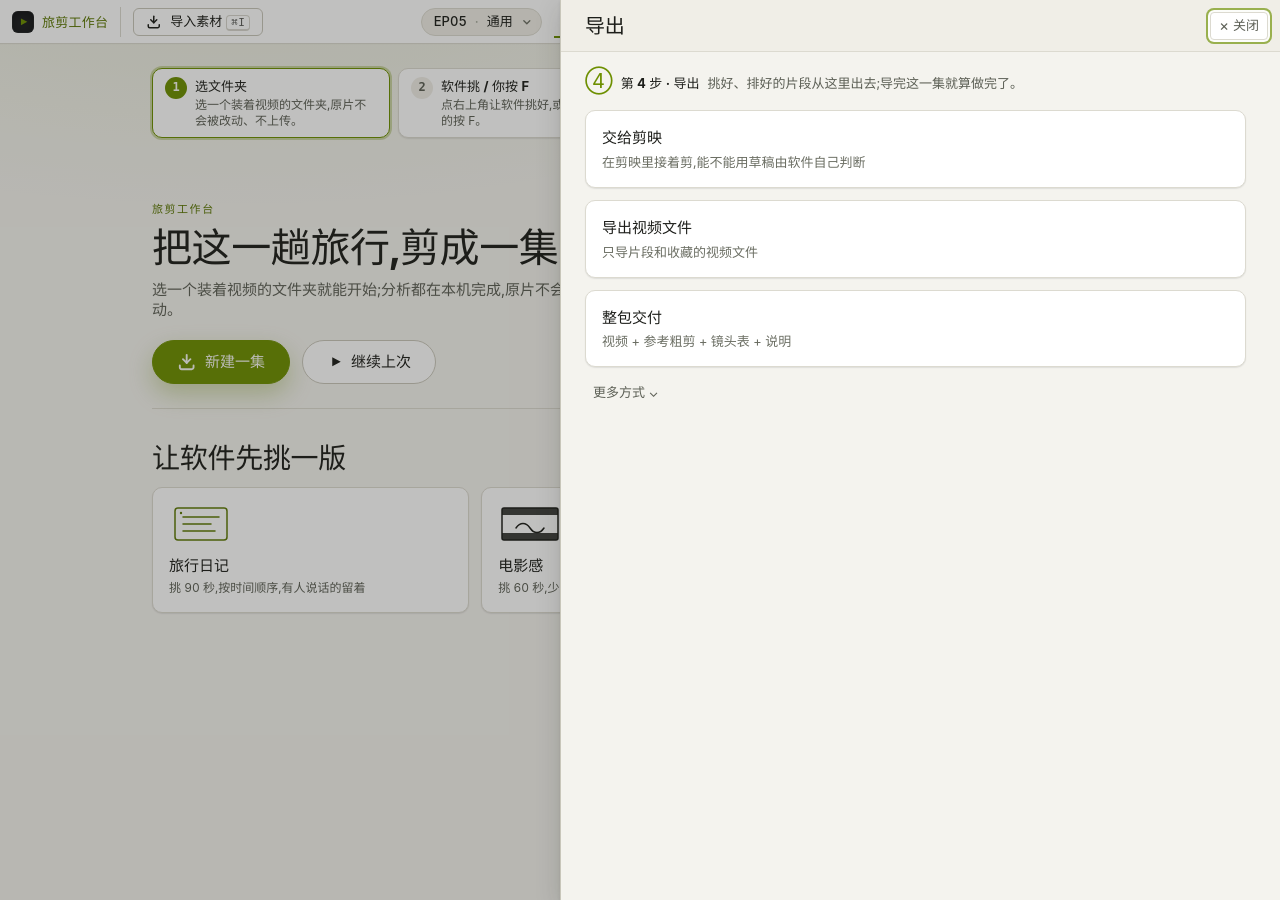
Test case: 视频交付三卡不再提照片,「交给剪映」照旧落素材包 / 草稿
Expected: the button "交给剪映" does not show "照片"
Expected: the button "导出视频文件" does not show "照片"
Click the button "整包交付 视频 + 参考粗剪 + 镜头表 + 说明".
click(632, 317)  # box [585,290,1246,367]
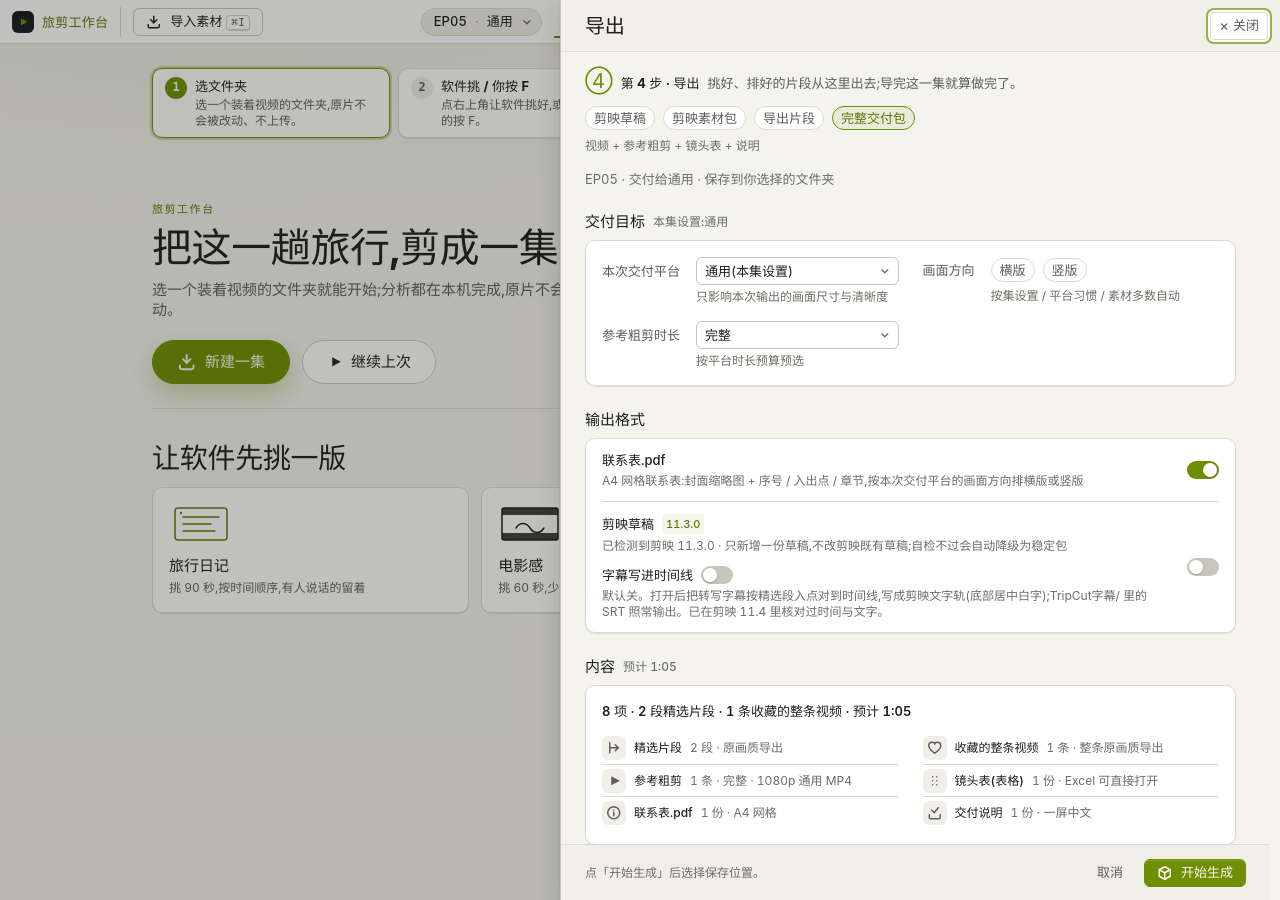
Expected: the text "本次交付平台" is shown, [602,262,680,280]
Expected: the switch named "剪映草稿" is enabled, [1187,558,1219,576]
